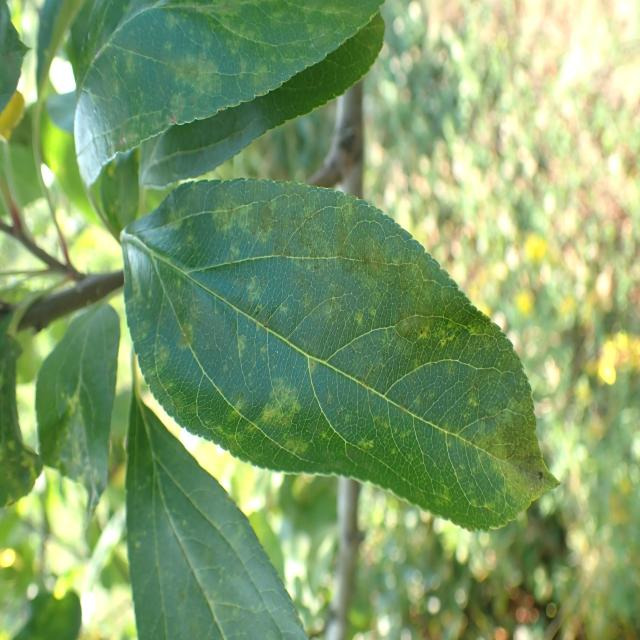scab: (117, 189, 554, 512), (90, 0, 382, 121)
